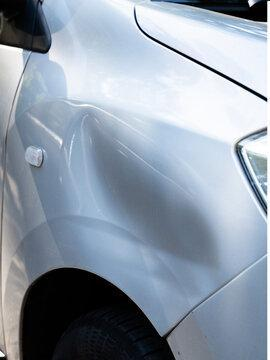dent: (67, 106, 231, 327)
